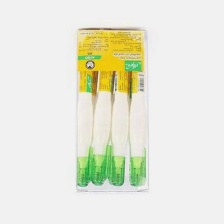correction_fluid: (105, 28, 131, 188), (90, 28, 115, 187), (127, 28, 147, 188), (76, 28, 95, 187)
plastic_box: (72, 23, 152, 196)
